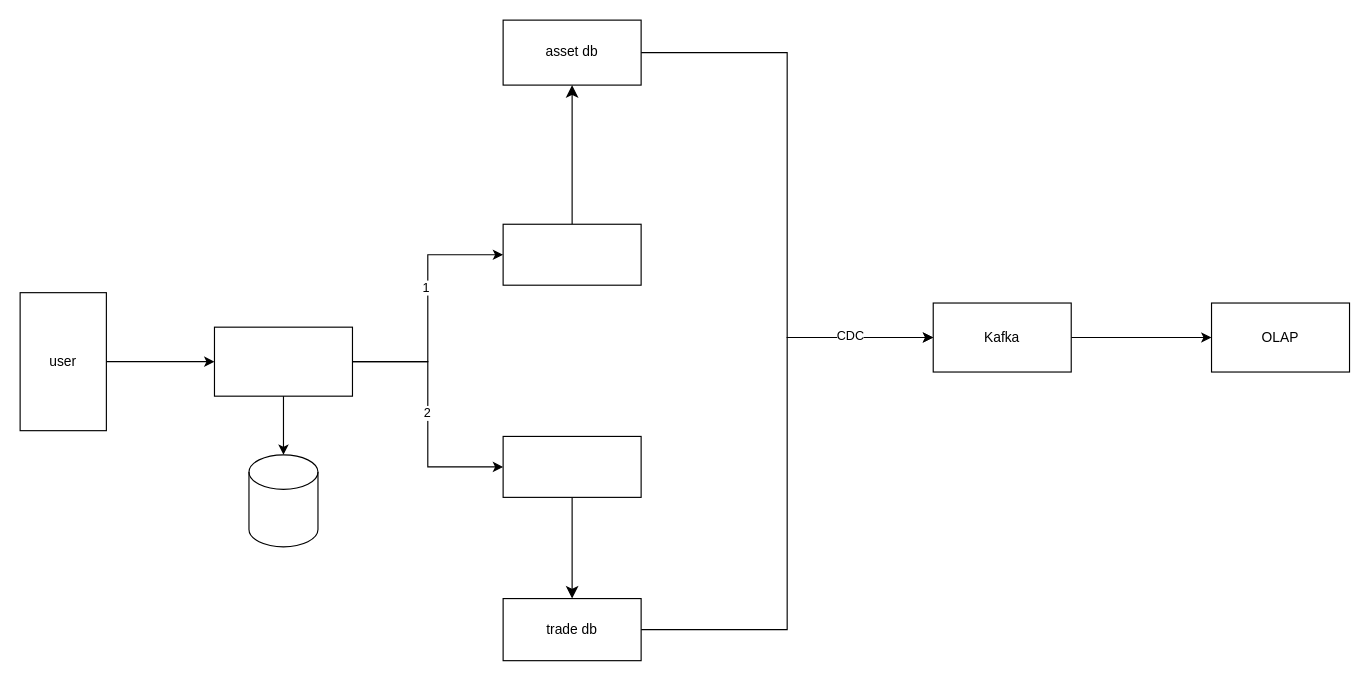
This 1370x681 diagram has some shape labels left out. Here are the shapes that lost their labels. From the top down, the centre of each, then its label:
At point 571,254: "asset".
At point 282,361: "Payment Orchestration".
At point 571,466: "trade".
